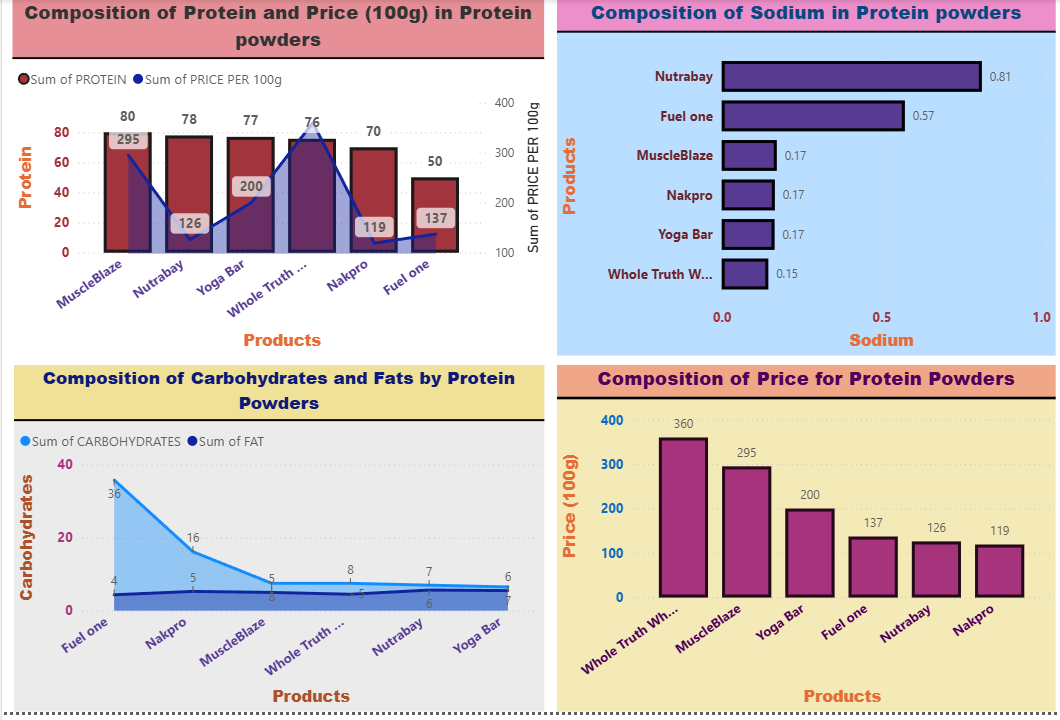

Layout of this report page (visuals, bound fields, positions):
{"tool":"powerbi","page":{"name":"Protein Powder","canvas":[1280,720],"ordinal":2},"visuals":[{"type":"lineStackedColumnComboChart","title":"Composition of Protein and Price (100g) in Protein powders","fields":{"Category":["Protein source.PRODUCT"],"Y":["Sum(Protein source.PROTEIN)"],"Y2":["Sum(Protein source.PRICE PER 100g)"]},"box":[10,0,536.7,360],"z":0},{"type":"areaChart","title":"Composition of Carbohydrates and Fats by Protein Powders","fields":{"Category":["Protein source.PRODUCT"],"Y":["Sum(Protein source.CARBOHYDRATES)","Sum(Protein source.FAT)"]},"box":[11.7,370,535,350],"z":1000},{"type":"clusteredBarChart","title":"Composition of Sodium in Protein powders","fields":{"Category":["Protein source.PRODUCT"],"Y":["Sum(Protein source.Sodium (g))"]},"box":[560,0,503.3,360],"z":2000},{"type":"clusteredColumnChart","title":"Composition of Price for Protein Powders","fields":{"Category":["Protein source.PRODUCT"],"Y":["Sum(Protein source.PRICE PER 100g)"]},"box":[560,370,503.3,350],"z":3000}]}

Visuals, with their boxes on the page's 1280x720 design canvas (x1, y1, x2, y2). These are canvas units, not pixel positions in the 1060x720 screenshot, which may show the page scaled, cropped or inside an application window:
"Composition of Protein and Price (100g) in Protein powders" lineStackedColumnComboChart: bbox=[10, 0, 547, 360]
"Composition of Carbohydrates and Fats by Protein Powders" areaChart: bbox=[12, 370, 547, 720]
"Composition of Sodium in Protein powders" clusteredBarChart: bbox=[560, 0, 1063, 360]
"Composition of Price for Protein Powders" clusteredColumnChart: bbox=[560, 370, 1063, 720]
